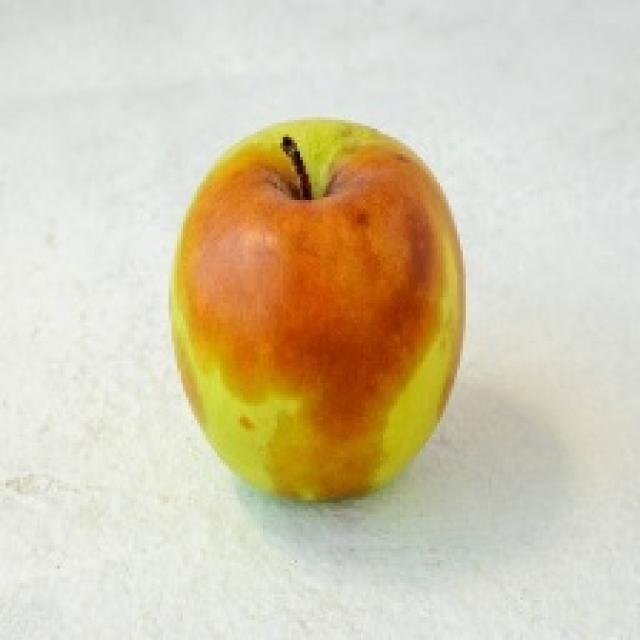apple: (171, 118, 463, 501)
